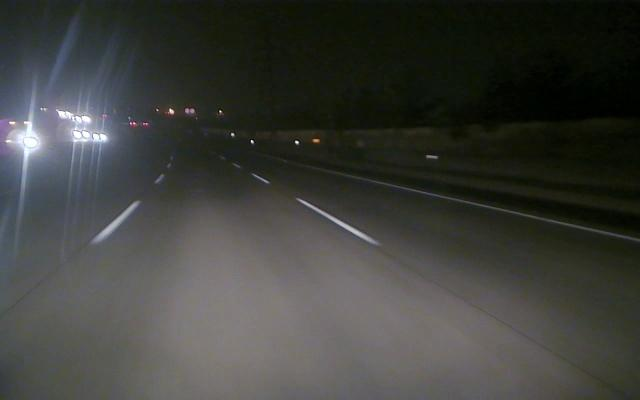lane: (345, 174, 638, 244), (251, 172, 381, 244), (89, 173, 164, 245)
